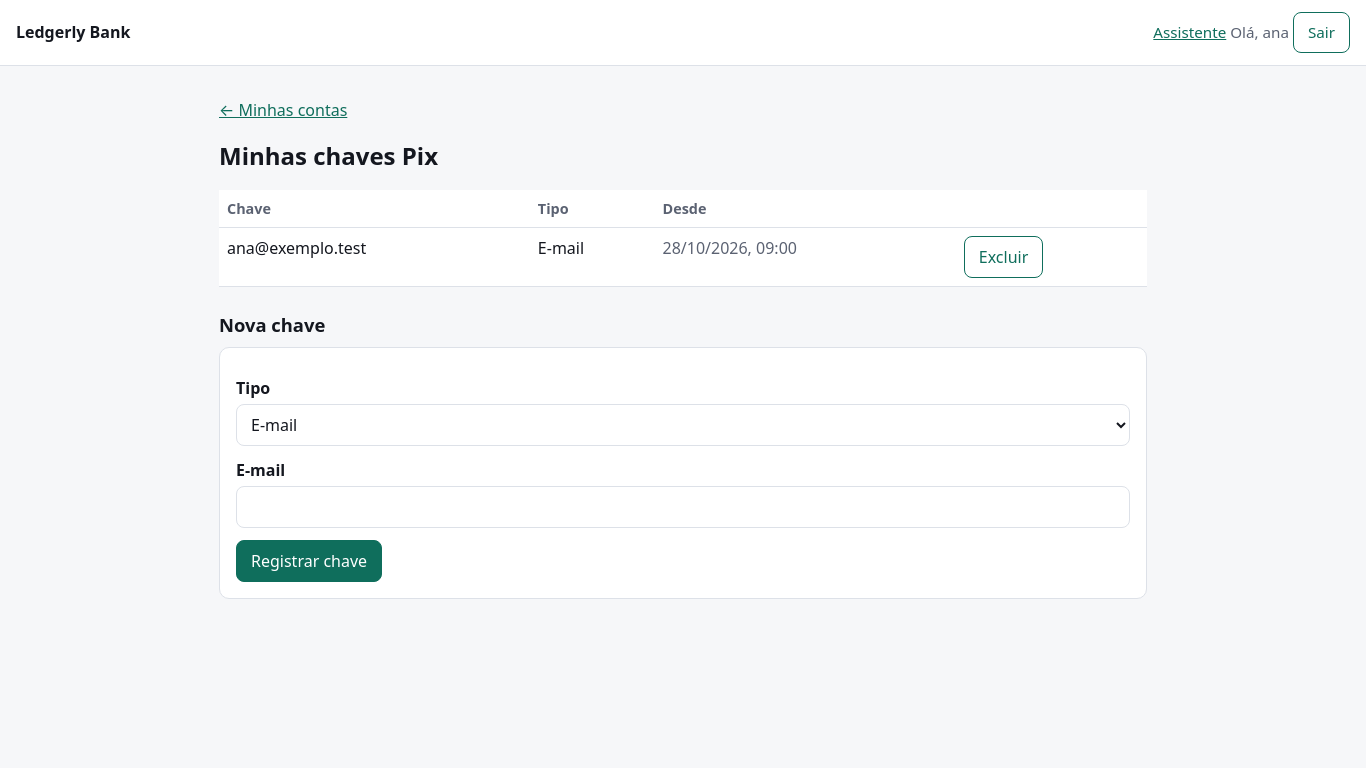
Test case: minhas chaves › lista, registra (aleatória vai sem valor) e exclui
The image size is (1366, 768).
Expected: the text "ana@exemplo.test" is shown, [219,228,530,287]
Select "Chave aleatória" in the dropdown labelled "Tipo" at {"x": 683, "y": 425}, box [236,404,1130,446]
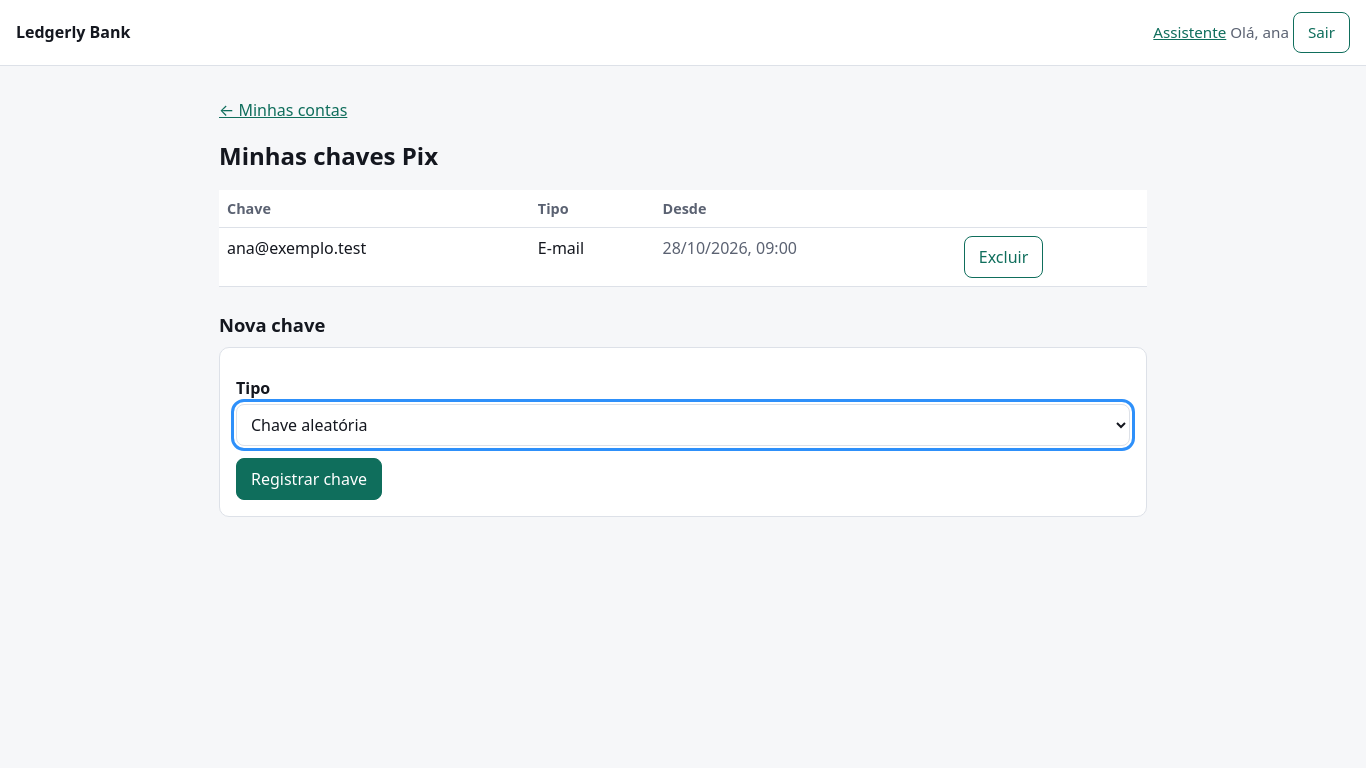
Click the button "Registrar chave" at {"x": 309, "y": 479}, box [236,458,382,500]
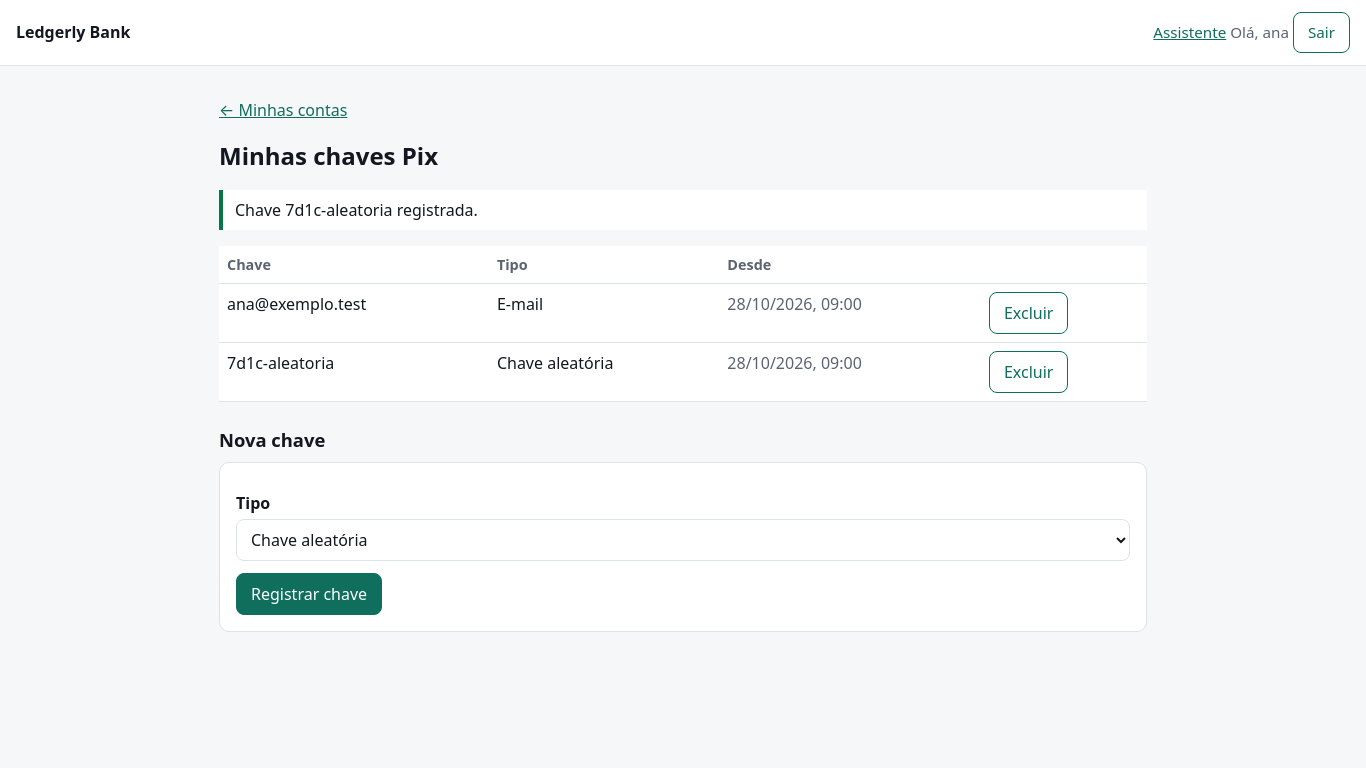
Now the message reads "Chave 7d1c-aleatoria registrada.", box [235,199,478,221]
Click the button with aria-label "Excluir ana@exemplo.test" at {"x": 1029, "y": 313}, box [989,292,1068,334]
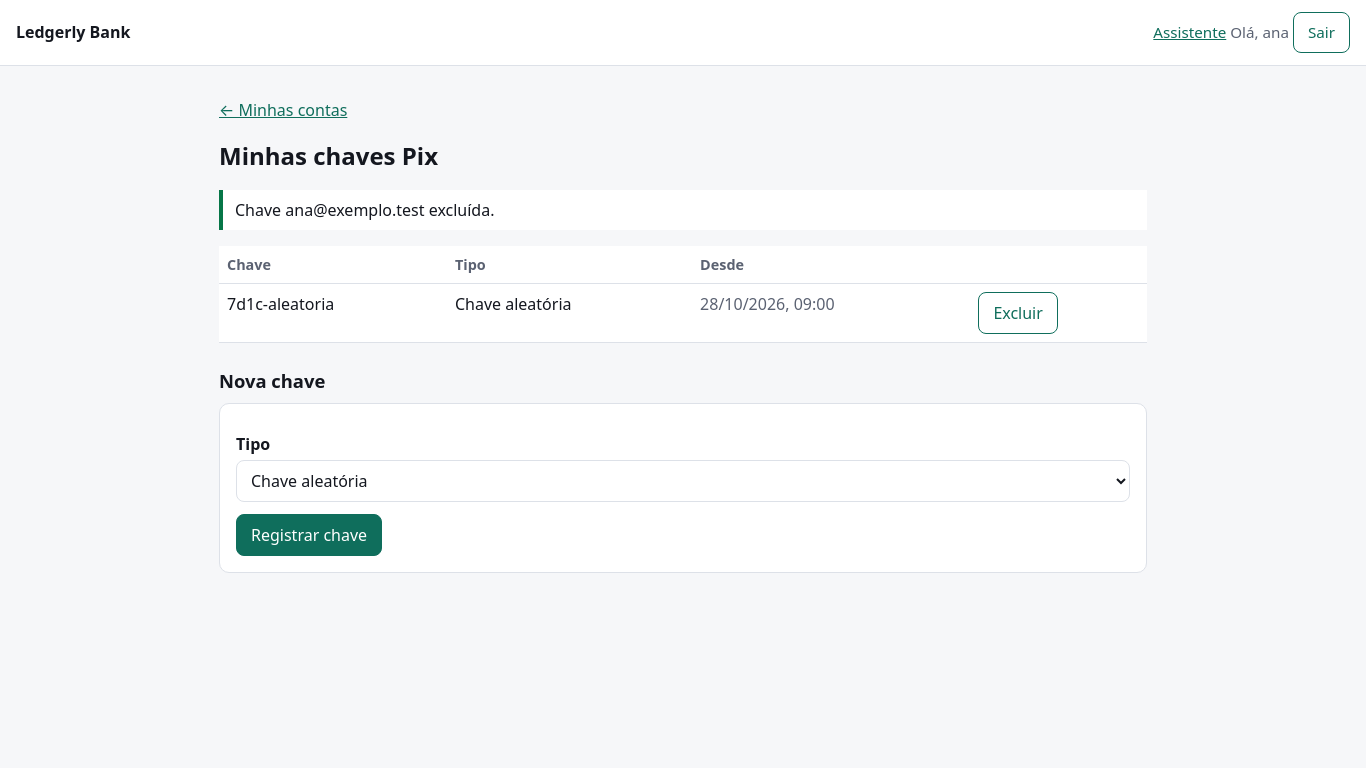
Now the text "Chave ana@exemplo.test excluída." is shown, box [219,190,1147,230]
